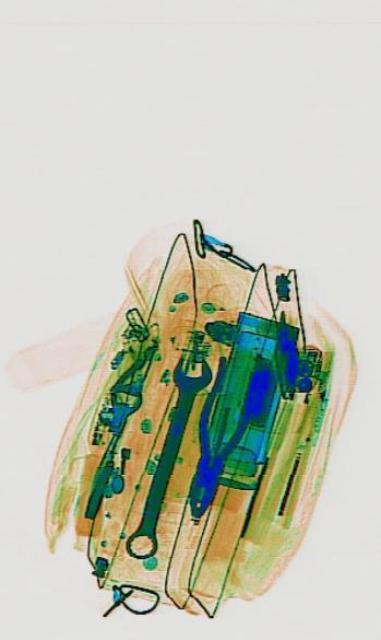Pliers: (172, 344, 261, 532)
Wrench: (118, 342, 213, 570)
